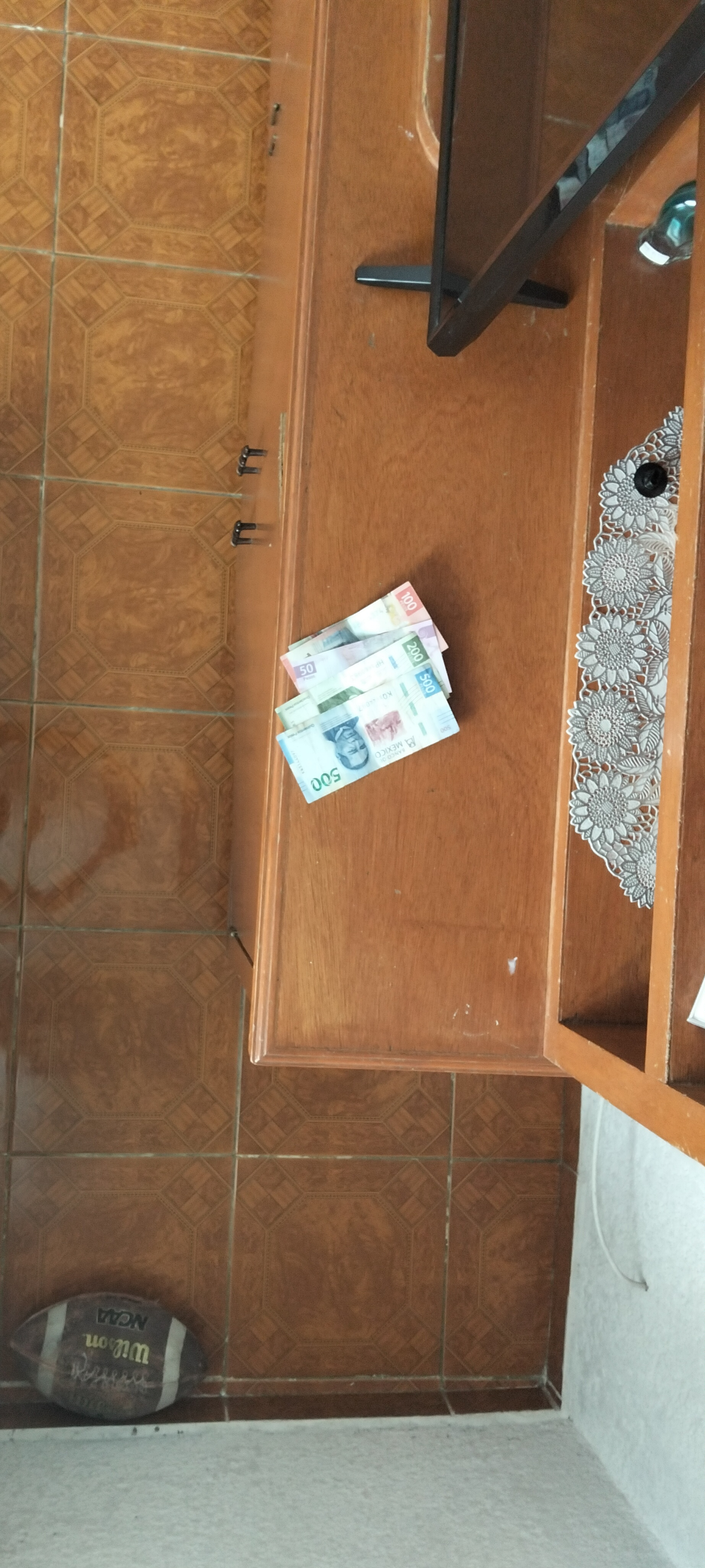billetes: (264, 554, 490, 817)
